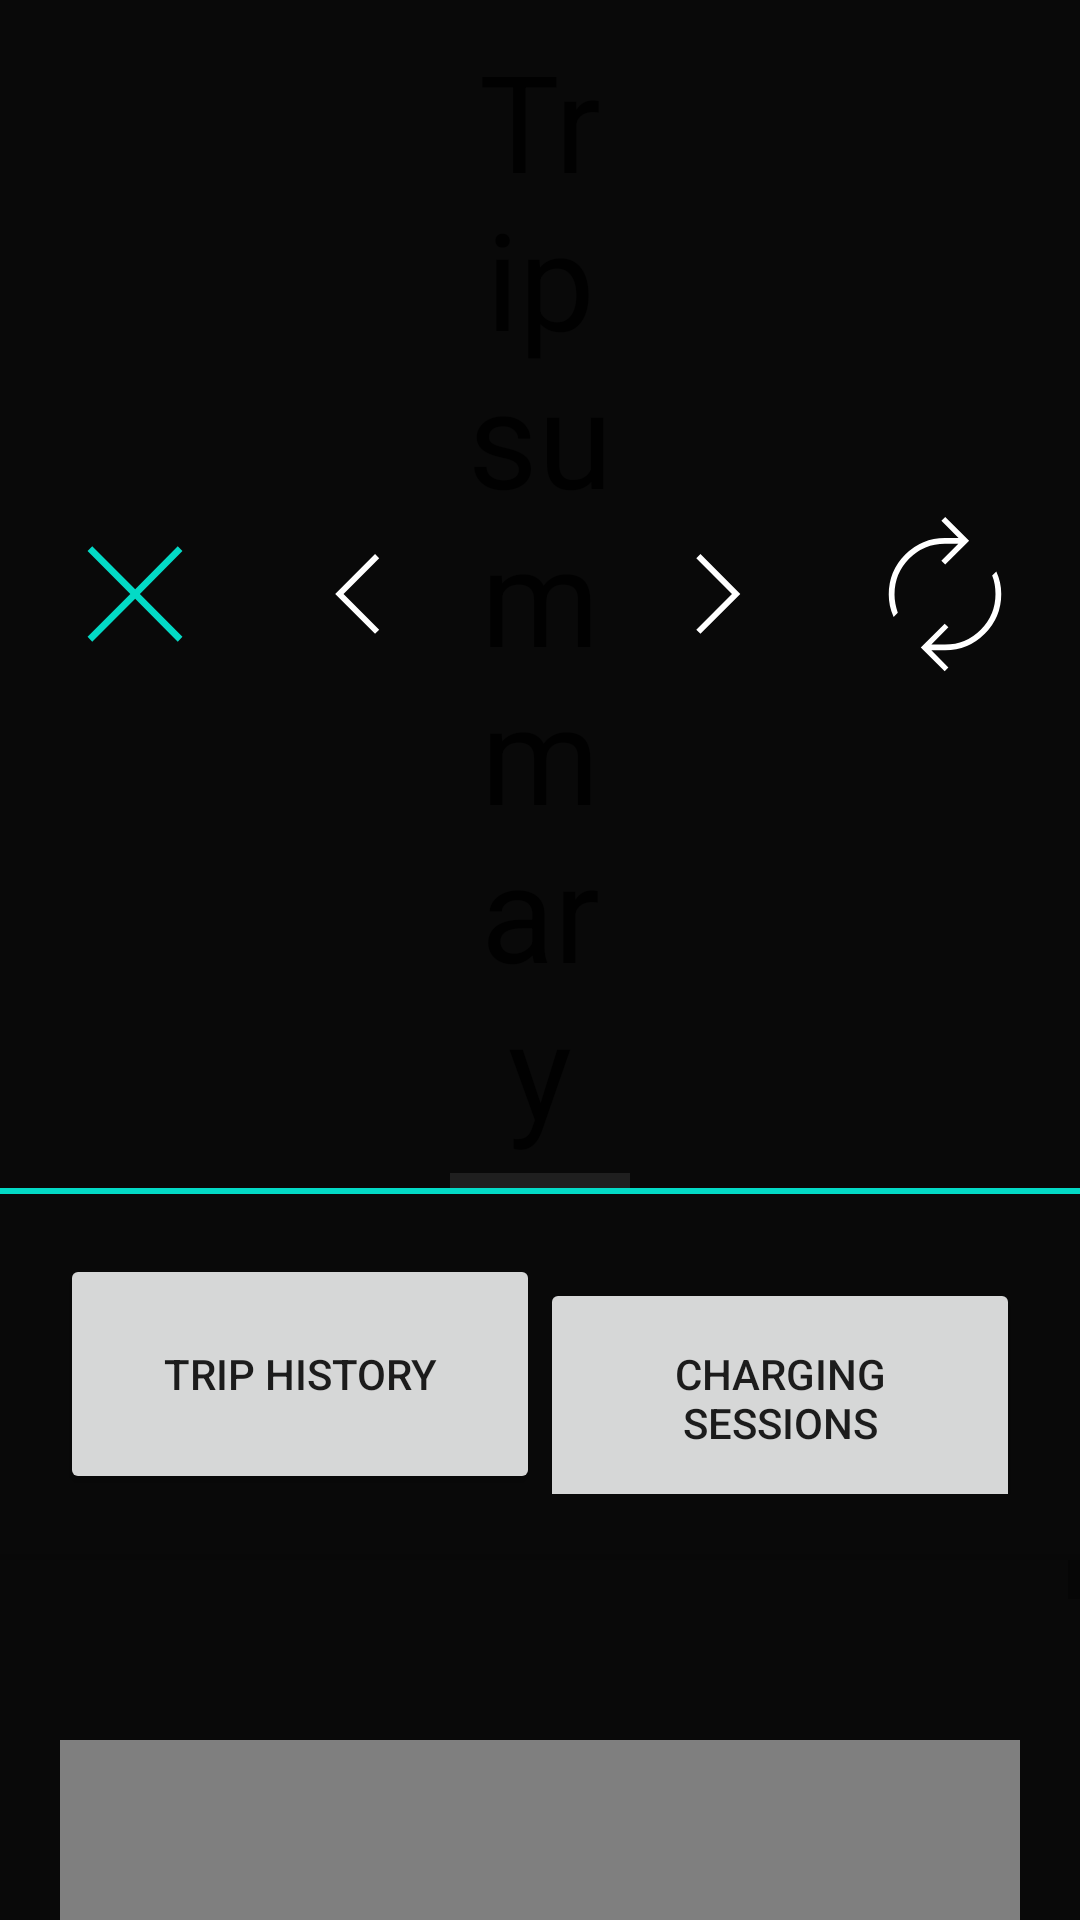

Screen size 1080 x 1920. Icon name, then its box in pixels as (x1, y1, x2, y2):
chevron left: (335, 554, 379, 634)
chevron right: (696, 554, 740, 634)
close: (87, 546, 183, 642)
reset: (888, 517, 1002, 671)
